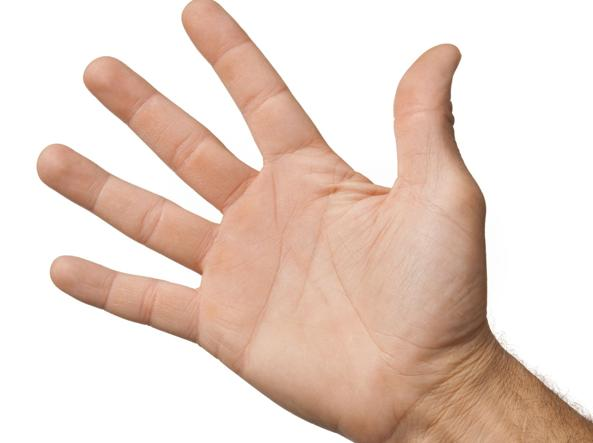open_hand: (37, 5, 533, 439)
